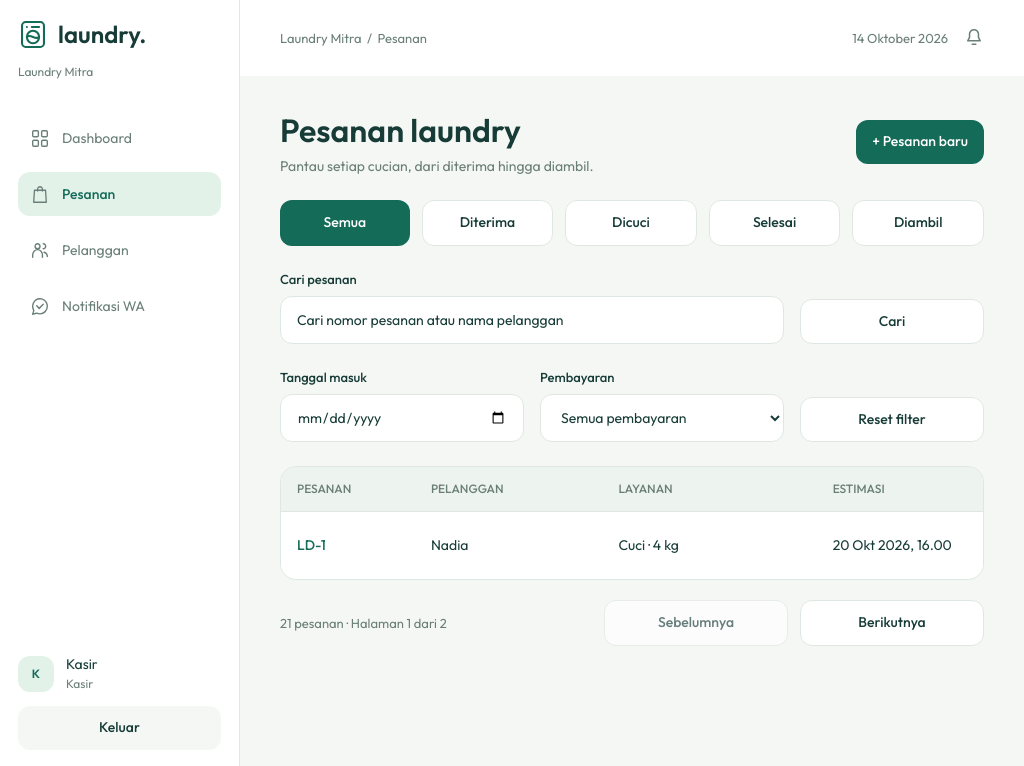
Scenario: lists persisted order data, paginates, and opens order detail
Expected: the table shows "Cuci · 4 kg", [618,536,679,554]
Click the button "Berikutnya": click(892, 623) [800,600,984,646]
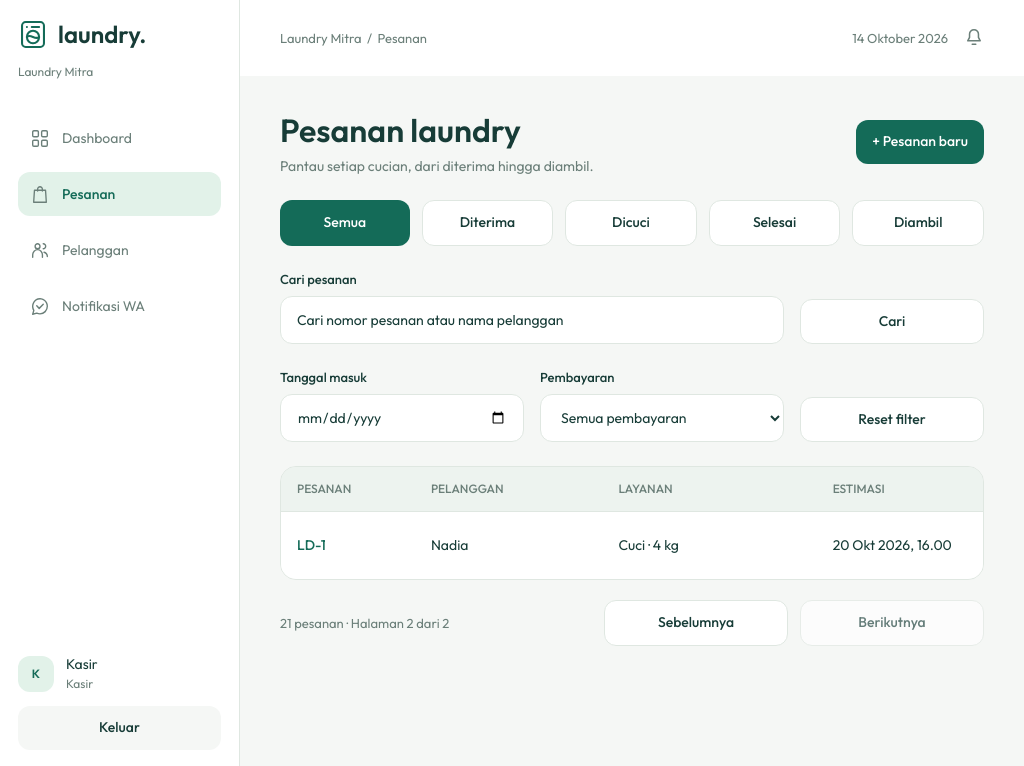
Result: the text "21 pesanan · Halaman 2 dari 2" is shown at [280,614,449,632]
Click the link "LD-1": click(311, 545) [297,536,326,554]
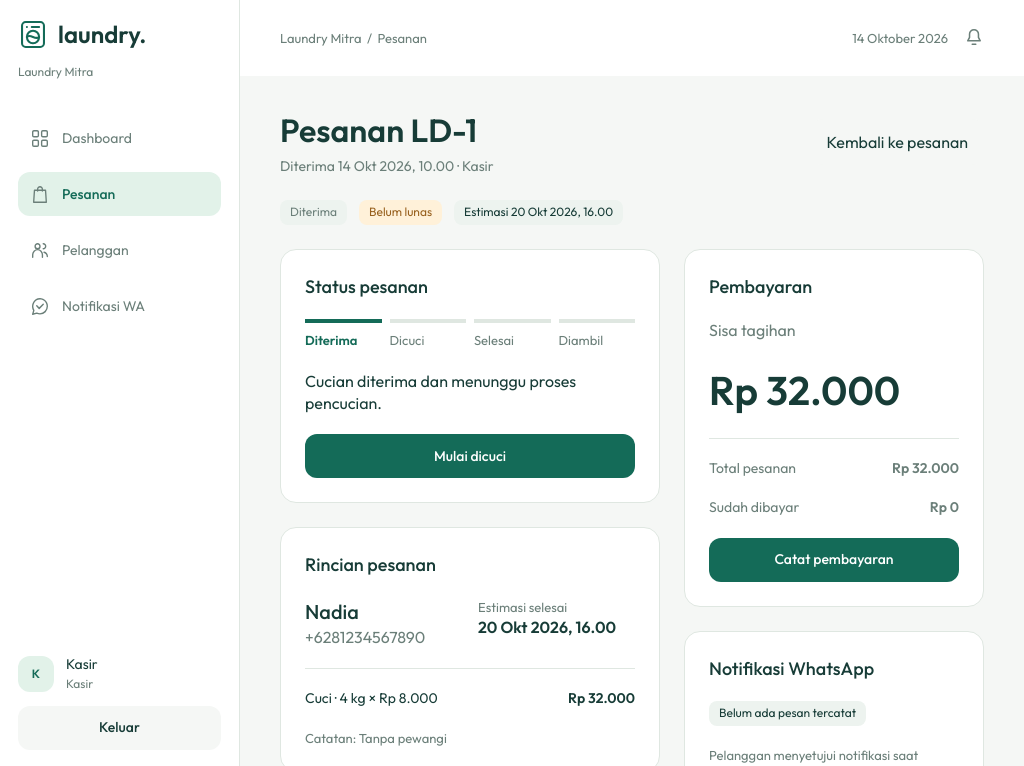
Expected: the list named "Tahap pencucian" shows "Diambil", [558,332,603,348]
Result: the heading "Pesanan LD-1" is shown at [280,108,494,153]
Result: the text "Catatan: Tanpa pewangi" is shown at [305,730,447,746]
